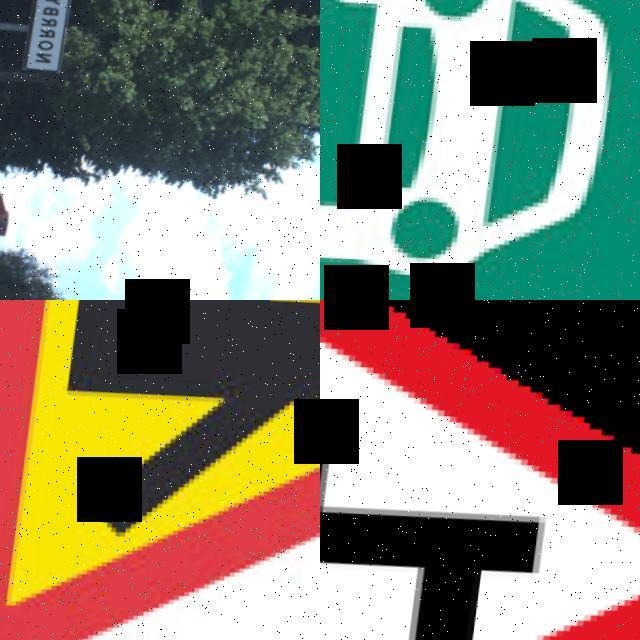166: (0, 300, 320, 640)
171: (21, 0, 80, 79)
73: (320, 0, 640, 300)
Staggered side road junction: (320, 300, 640, 640)
